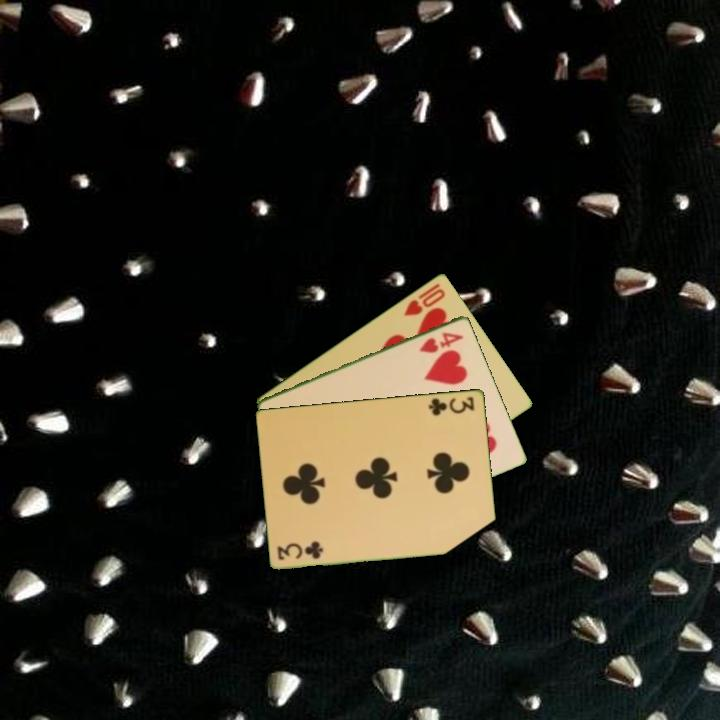10h: (400, 284, 448, 319)
3c: (425, 393, 477, 418), (274, 539, 326, 562)
4h: (416, 328, 467, 356)
